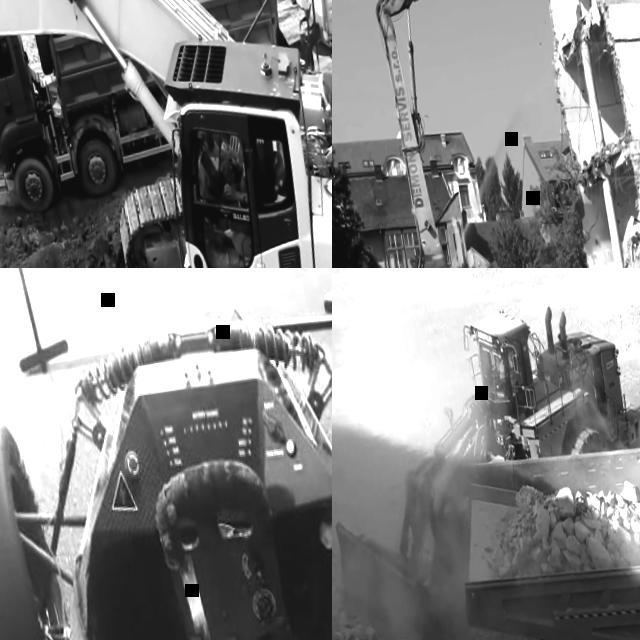vest: (268, 150, 289, 194)
